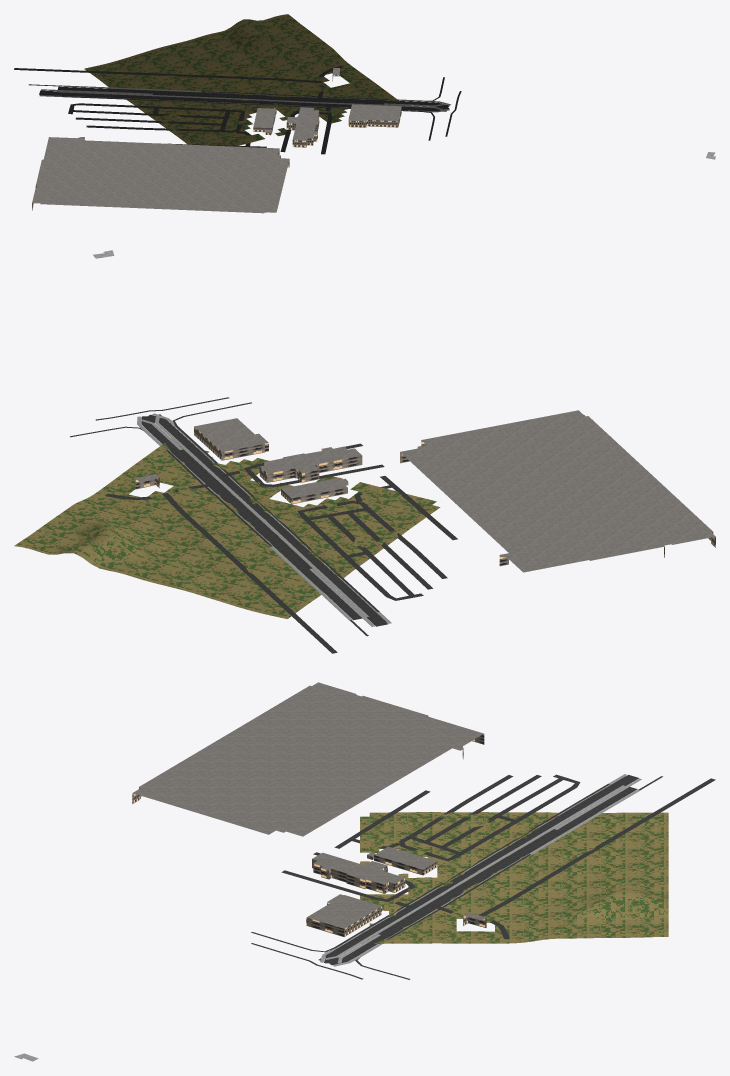
Rendered from tile_46_-15.gltf.
The picture shows the model from 3 angles, top to bottom: view 1: azimuth 30°, elevation 25°; view 2: azimuth 150°, elevation 25°; view 3: azimuth 270°, elevation 25°; orthographic projection. The views are drawn at different scales.
Parts seen in each view (by area): view 1: Buildings_col, Terrain_col, Roads, Sidewalks; view 2: Buildings_col, Terrain_col, Roads, Sidewalks; view 3: Buildings_col, Terrain_col, Roads, Sidewalks.
Boxes of the visible parts, box(x1,y1,x2,y2) form: Buildings_col: box(32, 68, 401, 213); Terrain_col: box(84, 14, 404, 145); Roads: box(14, 65, 461, 154); Sidewalks: box(39, 85, 450, 112); Buildings_col: box(135, 410, 715, 572); Terrain_col: box(14, 438, 440, 618); Roads: box(70, 397, 457, 653); Sidewalks: box(137, 413, 391, 626); Buildings_col: box(132, 682, 486, 936); Terrain_col: box(360, 812, 668, 943); Roads: box(251, 774, 715, 979); Sidewalks: box(320, 774, 641, 966).
Bounding box in the file's own units: 720 × 16.76 × 582.
Materials: 5 (5 with a texture image).
